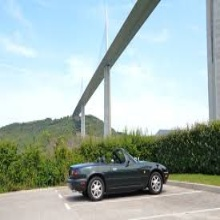no damage: (66, 147, 169, 202)
